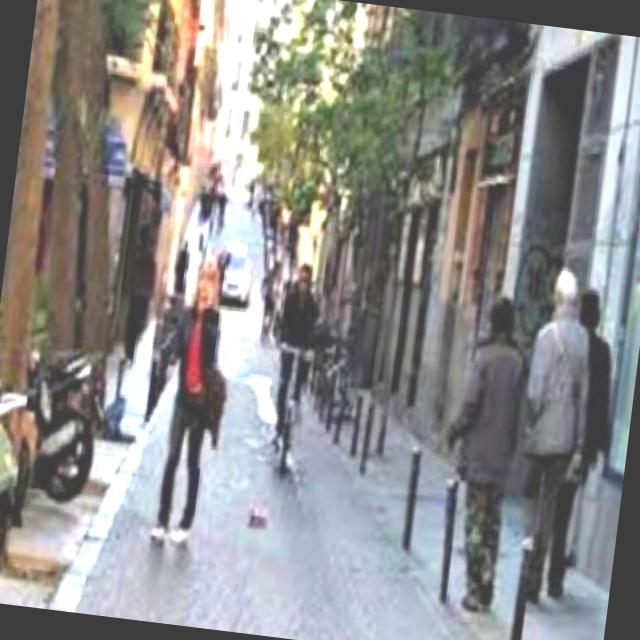Person: (422, 286, 540, 618), (484, 266, 602, 592), (130, 247, 233, 554), (264, 255, 326, 440), (106, 216, 166, 364)
